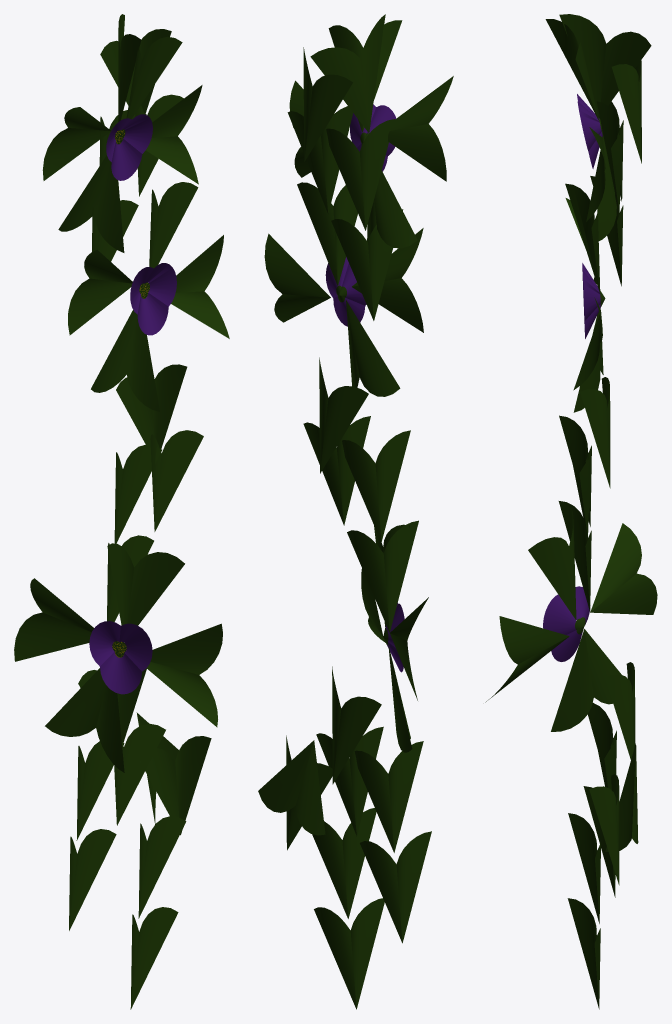
Rendered from Vegetation_Vine_Creeper_03.fbx.
The picture shows the model from 3 angles, left to right: view 1: azimuth 30°, elevation 25°; view 2: azimuth 150°, elevation 25°; view 3: azimuth 270°, elevation 25°; orthographic projection.
Parts seen in each view (by area): view 1: Vegetation_Vine_Creeper_03; view 2: Vegetation_Vine_Creeper_03; view 3: Vegetation_Vine_Creeper_03.
Boxes of the visible parts, x1,y1,x2,y2 form: Vegetation_Vine_Creeper_03: [14, 14, 229, 1009]; Vegetation_Vine_Creeper_03: [258, 14, 453, 1009]; Vegetation_Vine_Creeper_03: [485, 14, 657, 1009].
Size of the model in its own units: 14.75 by 76.83 by 12.3.
